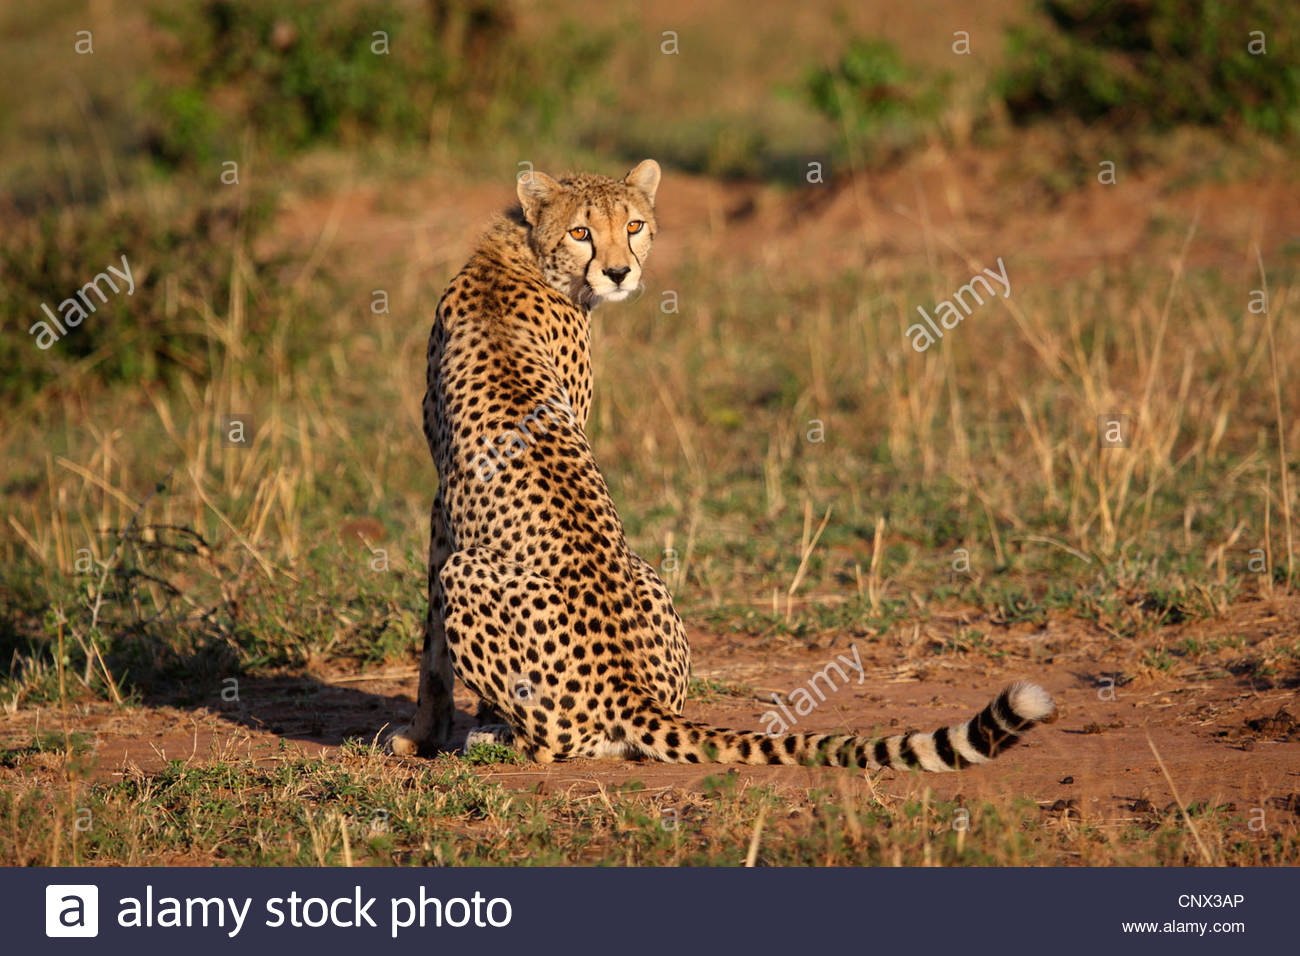Cheetah: (376, 136, 1043, 773)
